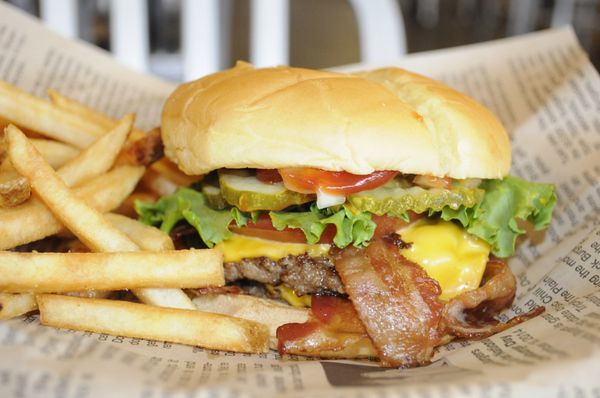soup: (128, 59, 529, 357)
